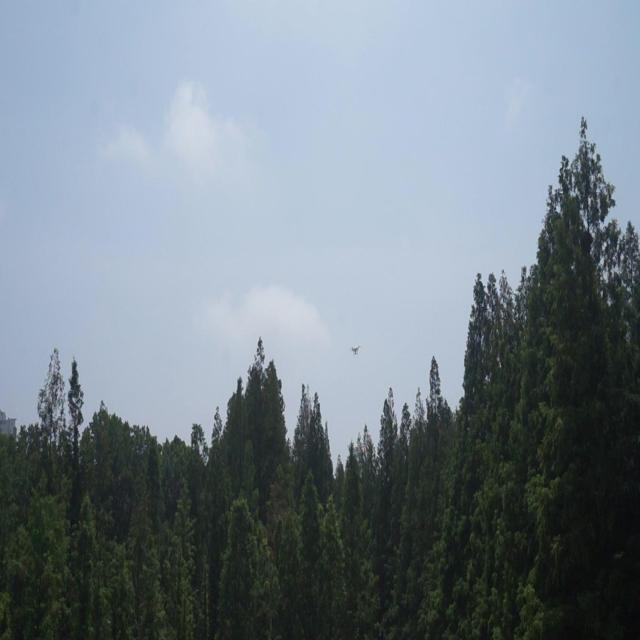drone: (346, 334, 364, 362)
